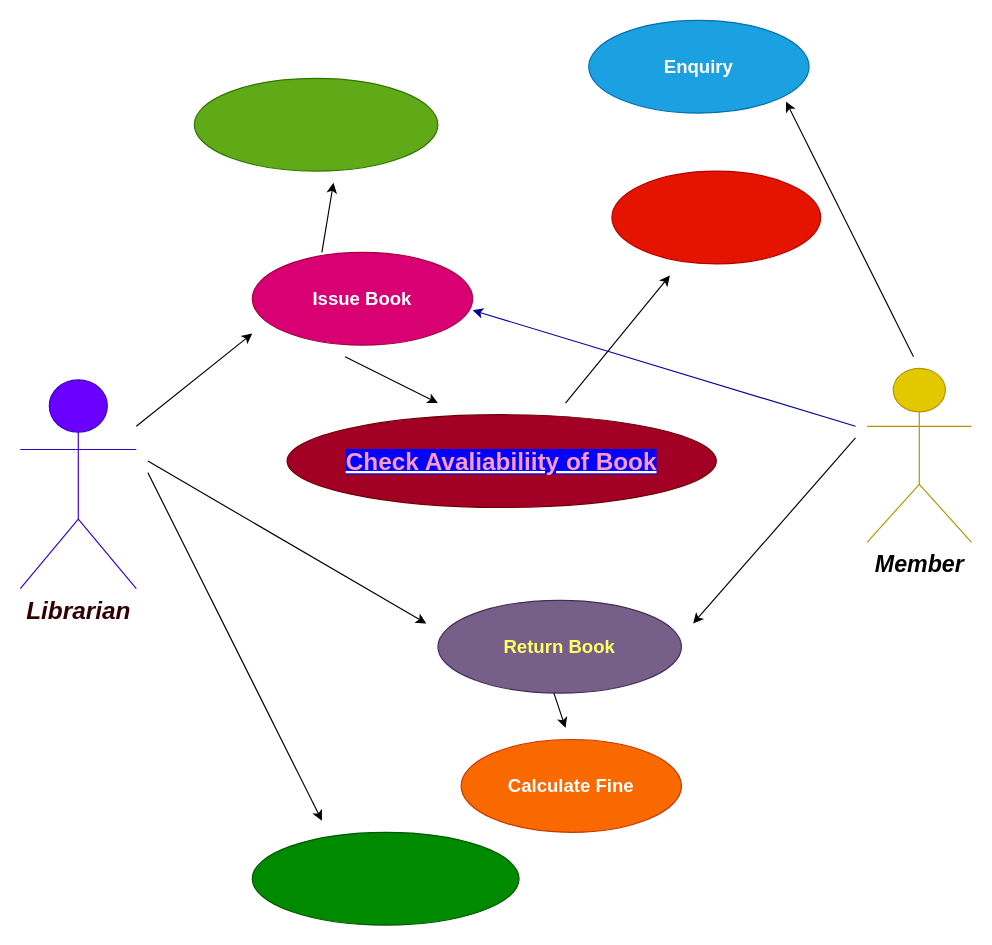
Some shapes in this 992 by 945 pixel diagram are drawn without their labels. Here are the shapes that lost their labels. From the top down, the centre of each, then its label:
(x=315, y=124): Register Member
(x=716, y=217): Verify Member
(x=385, y=878): Maintaining Book
